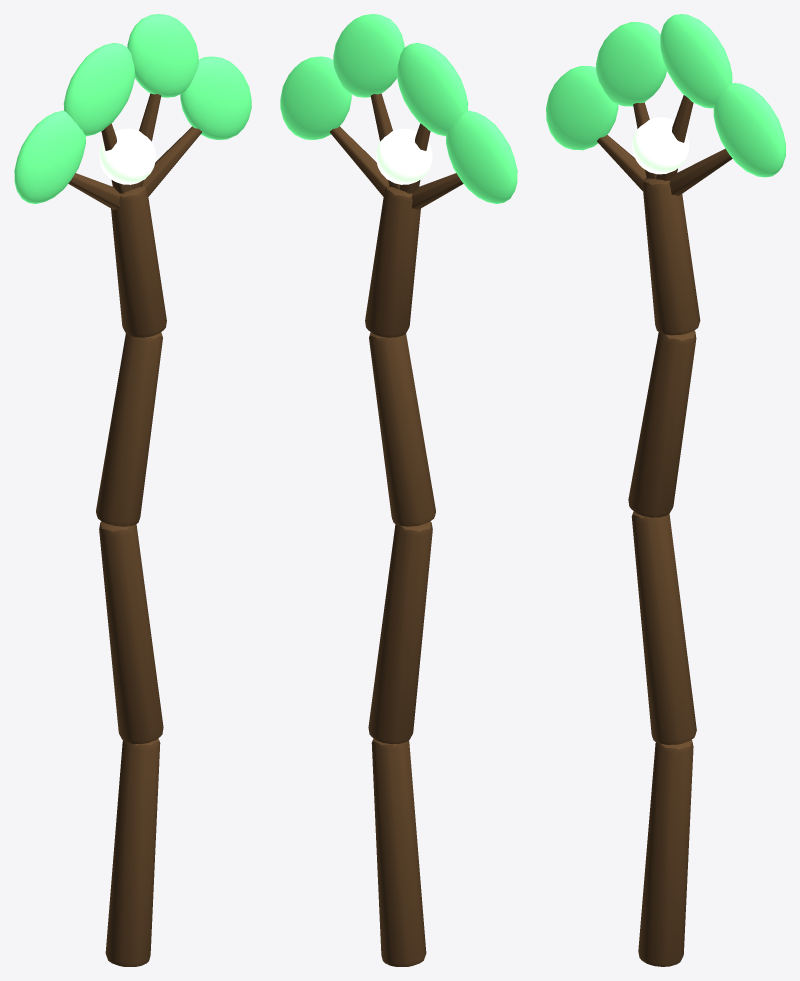
The model's file is bough.glb.
3 views of the same model, side by side, from view 1: azimuth 30°, elevation 25°; view 2: azimuth 150°, elevation 25°; view 3: azimuth 330°, elevation 25° (orthographic).
Visible parts, largest first — view 1: wpn_bough; view 2: wpn_bough; view 3: wpn_bough.
Part boxes in pixels (x1,y1,x2,y2): wpn_bough: [14, 14, 251, 966]; wpn_bough: [280, 14, 517, 966]; wpn_bough: [546, 14, 785, 966].
Bounding box in the file's own units: 0.6696 × 2.55 × 0.14.
